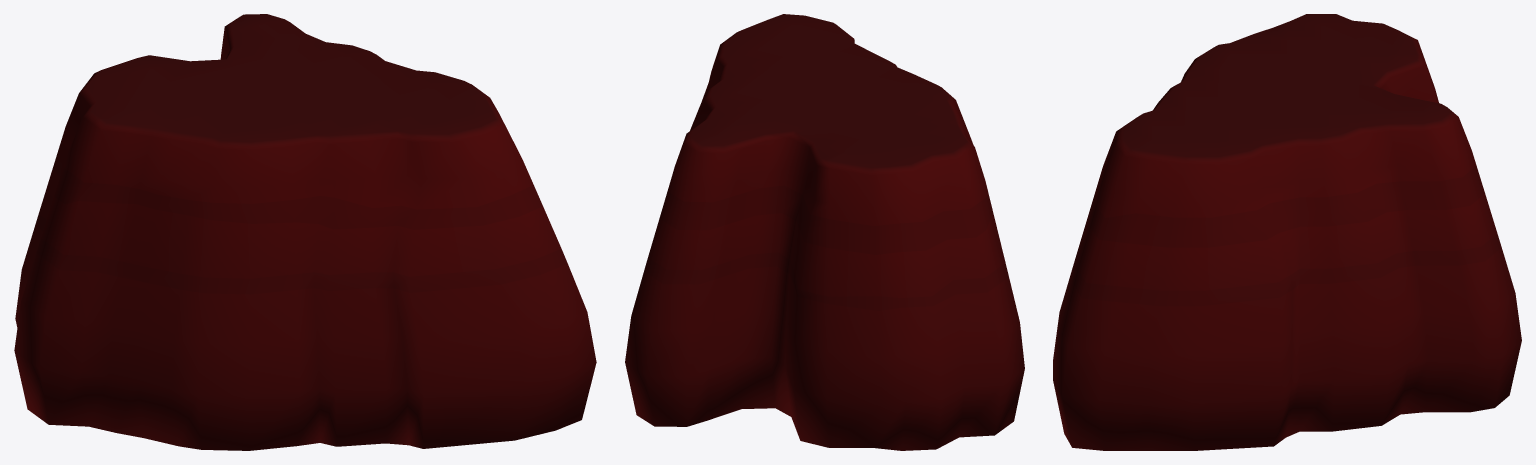
Rendered from geology-landforms-alienplateularge_v1.fbx.
3 views of the same model, side by side, from view 1: azimuth 30°, elevation 25°; view 2: azimuth 150°, elevation 25°; view 3: azimuth 270°, elevation 25° (orthographic). The views are drawn at different scales.
Visible parts, largest first — view 1: AlienPlateuLarge_v1; view 2: AlienPlateuLarge_v1; view 3: AlienPlateuLarge_v1.
Boxes of the visible parts, x1,y1,x2,y2 form: AlienPlateuLarge_v1: (14, 14, 596, 450); AlienPlateuLarge_v1: (625, 14, 1024, 450); AlienPlateuLarge_v1: (1053, 14, 1521, 450).
Bounding box in the file's own units: 45.09 × 28.41 × 44.15.
